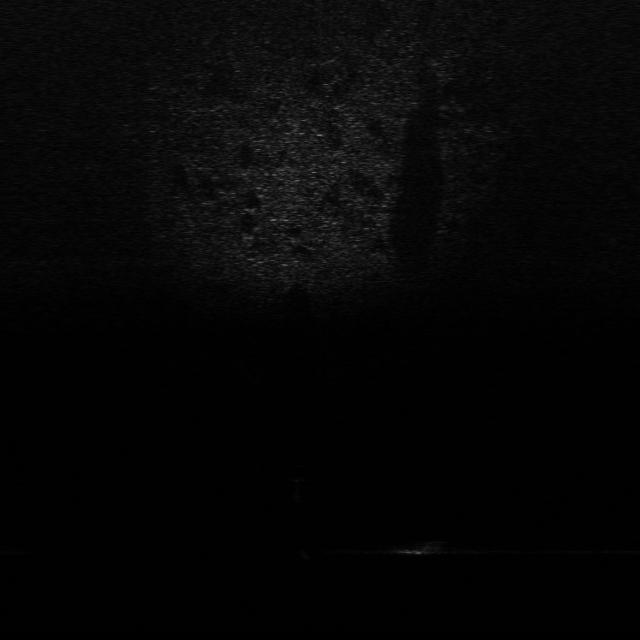metal bucket: (386, 536, 446, 558)
